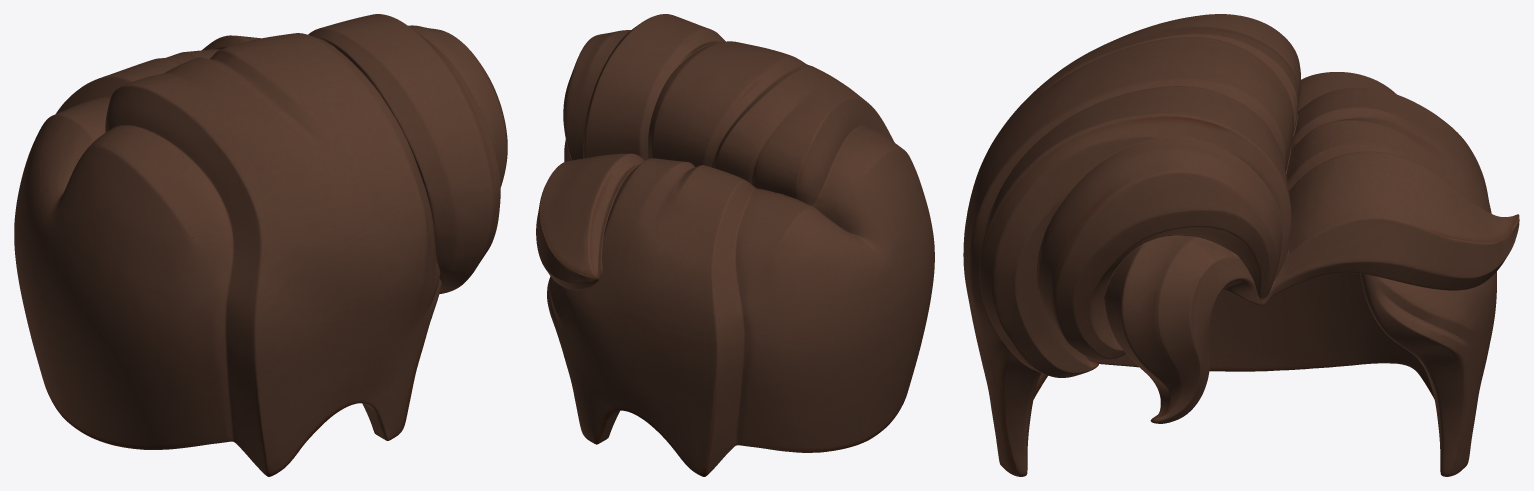
File: original-hair.glb
3 views of the same model, side by side, from view 1: azimuth 30°, elevation 25°; view 2: azimuth 150°, elevation 25°; view 3: azimuth 270°, elevation 25° (orthographic). The views are drawn at different scales.
Parts seen in each view (by area): view 1: tripo_node_cb6c1d7c-3ed7-430e-be78-83523d223c8d; view 2: tripo_node_cb6c1d7c-3ed7-430e-be78-83523d223c8d; view 3: tripo_node_cb6c1d7c-3ed7-430e-be78-83523d223c8d.
Boxes of the visible parts, x1,y1,x2,y2 form: tripo_node_cb6c1d7c-3ed7-430e-be78-83523d223c8d: (14,14,507,476); tripo_node_cb6c1d7c-3ed7-430e-be78-83523d223c8d: (536,14,934,476); tripo_node_cb6c1d7c-3ed7-430e-be78-83523d223c8d: (963,14,1519,476).
Size of the model in its own units: 0.9207 by 0.7998 by 0.9796.
1 material, 1 textured.
